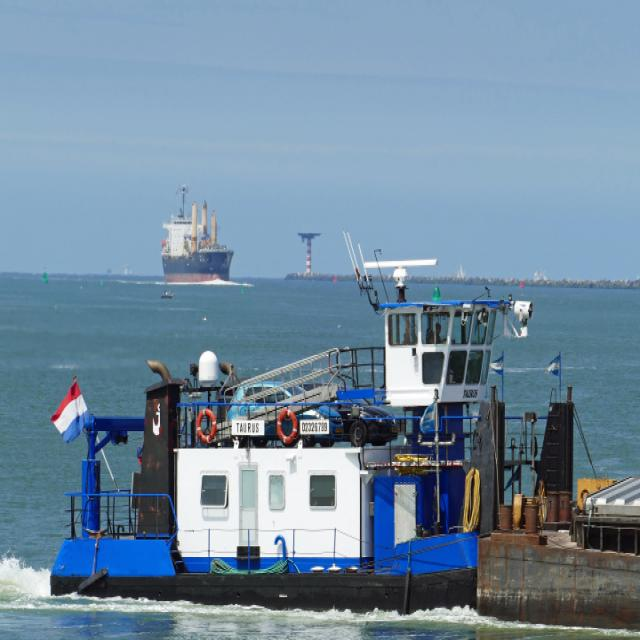tugboat: (46, 254, 584, 633)
